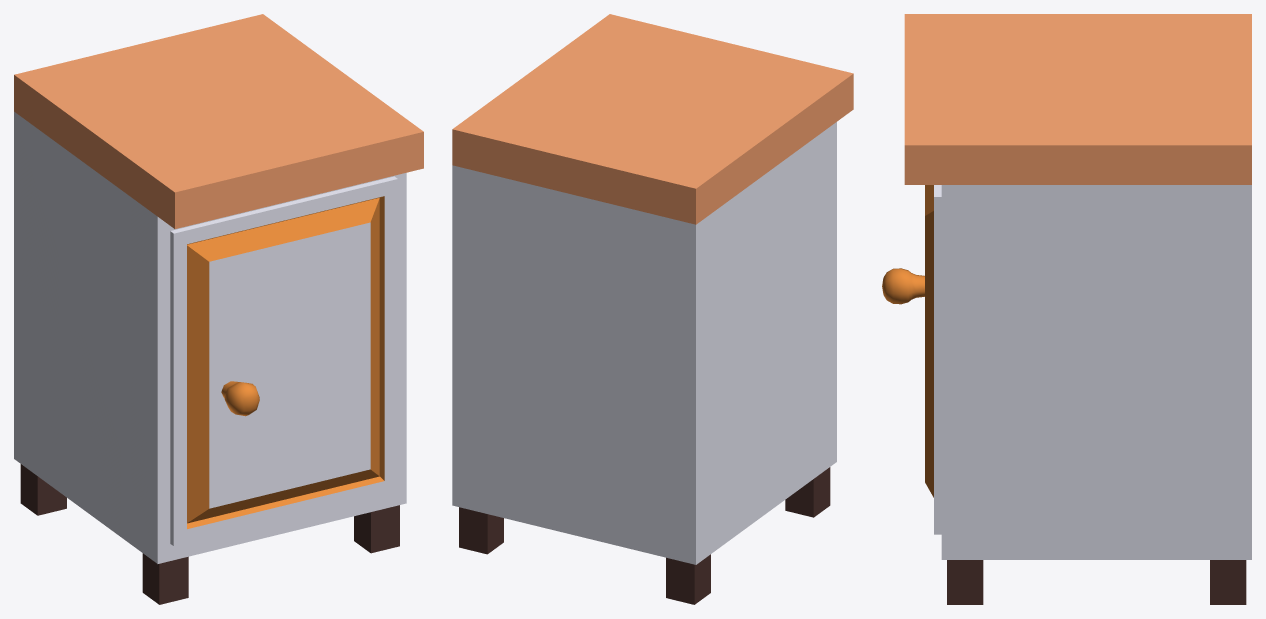
File: Prop_KitchenCabinet_01_C.fbx
3 views of the same model, side by side, from view 1: azimuth 30°, elevation 25°; view 2: azimuth 150°, elevation 25°; view 3: azimuth 270°, elevation 25° (orthographic). The views are drawn at different scales.
Parts seen in each view (by area): view 1: Prop_KitchenCabinet_01_C; view 2: Prop_KitchenCabinet_01_C; view 3: Prop_KitchenCabinet_01_C.
Boxes of the visible parts, <box> form: Prop_KitchenCabinet_01_C: <box>14,14,423,604</box>; Prop_KitchenCabinet_01_C: <box>452,14,853,604</box>; Prop_KitchenCabinet_01_C: <box>882,14,1251,604</box>.
Bounding box in the file's own units: 60 × 98.53 × 71.49.
